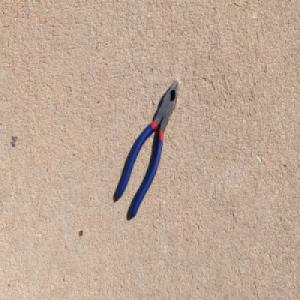Pliers: (115, 76, 180, 221)
